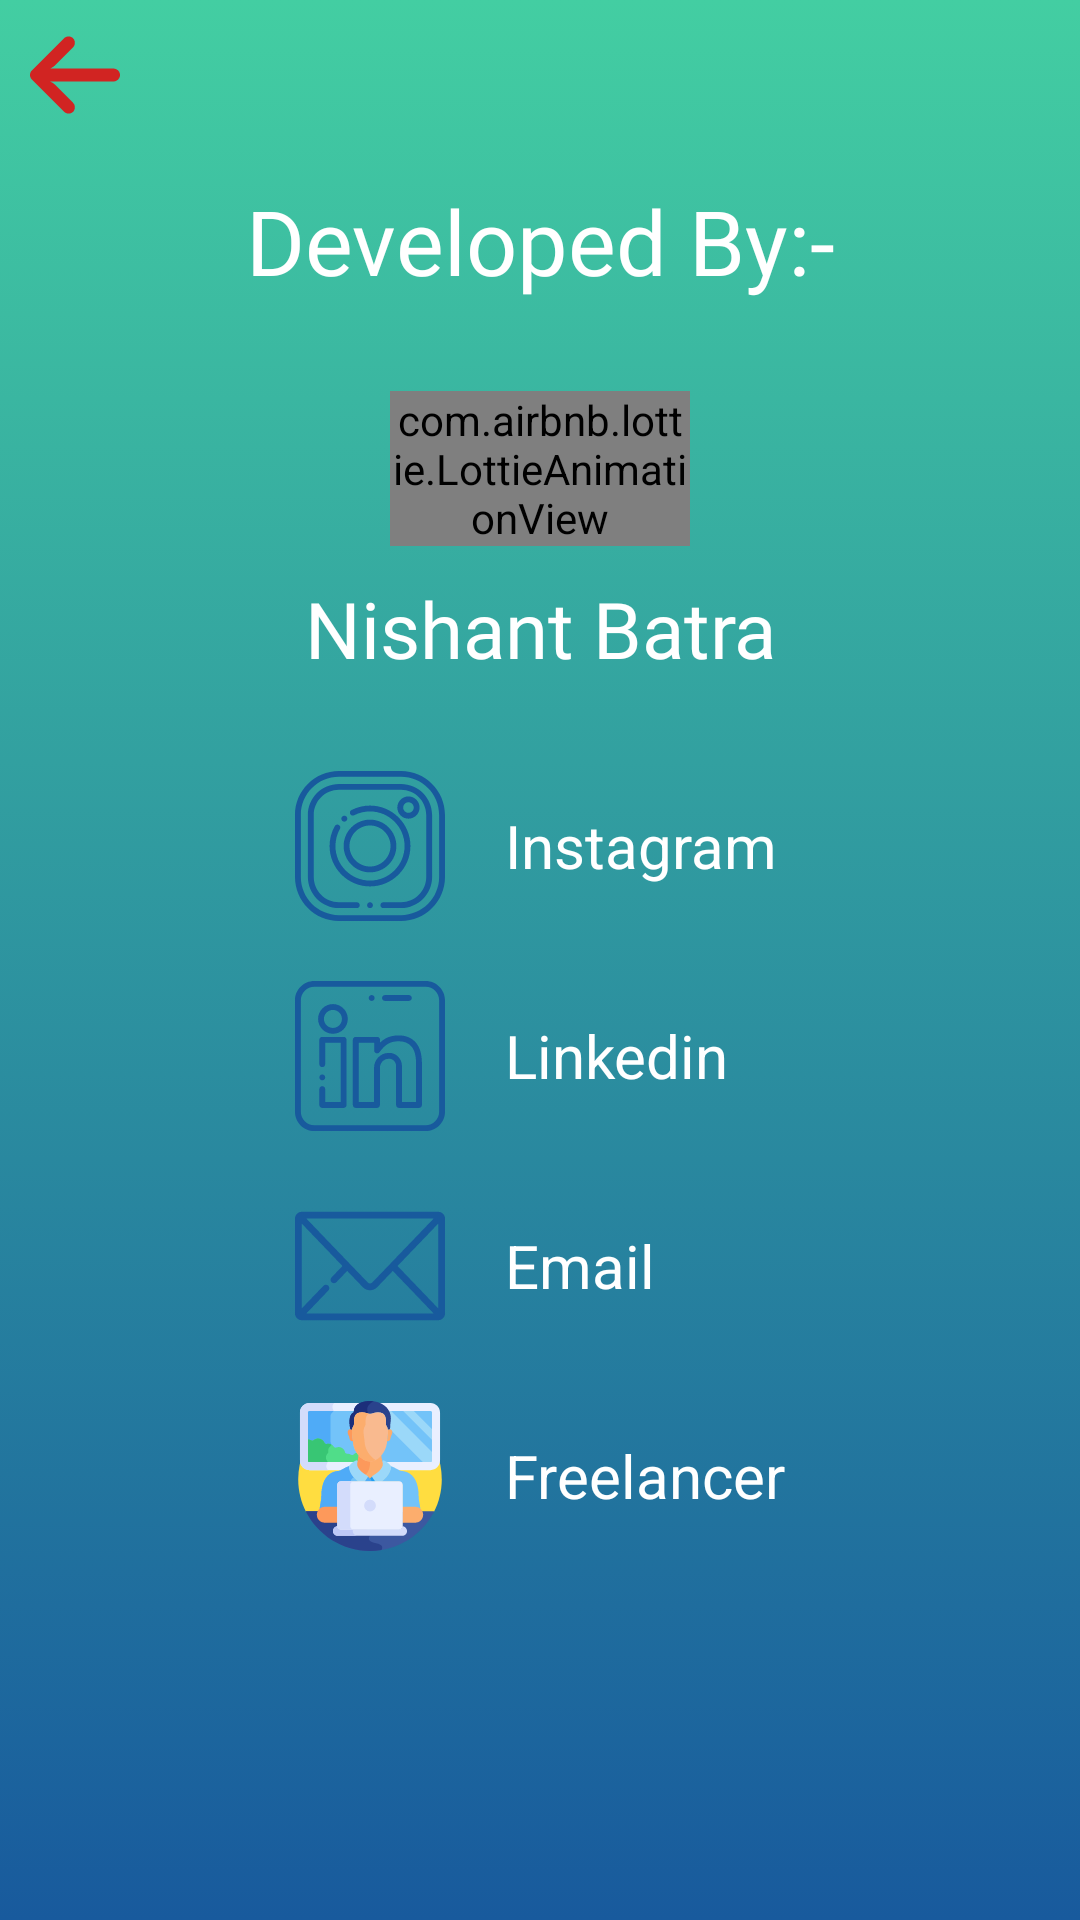

Icon click points for this 1080px x 1920px phone screenshot, format (x=x, y=y):
back: (x=75, y=75)
